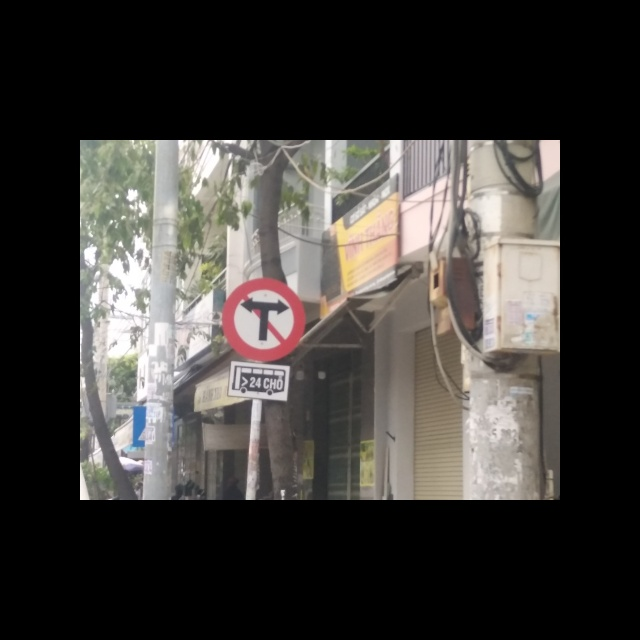Cấm rẽ trái và rẽ phải: (222, 275, 306, 360)
